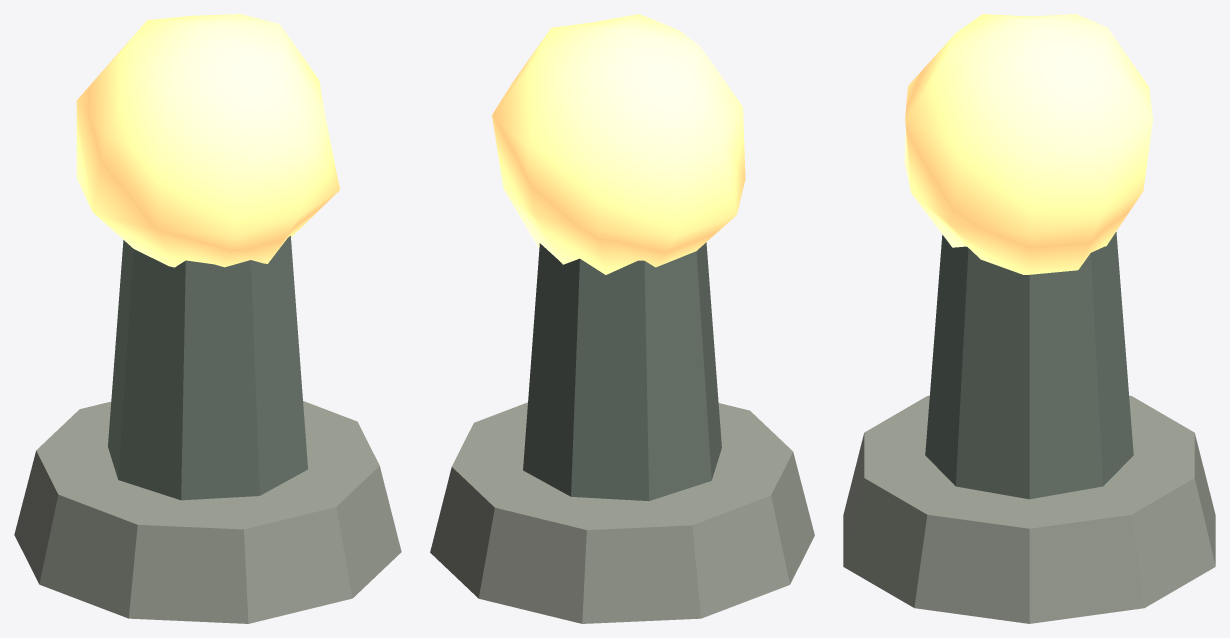
File: beacon.glb
The picture shows the model from 3 angles, left to right: view 1: azimuth 30°, elevation 25°; view 2: azimuth 150°, elevation 25°; view 3: azimuth 270°, elevation 25°; orthographic projection.
Visible parts, largest first — view 1: beacon; view 2: beacon; view 3: beacon.
Part boxes in pixels (x1=…): beacon: x1=14, y1=14, x2=401, y2=623; beacon: x1=430, y1=14, x2=814, y2=623; beacon: x1=843, y1=14, x2=1215, y2=623.
Bounding box in the file's own units: 1.24 × 1.82 × 1.18.
